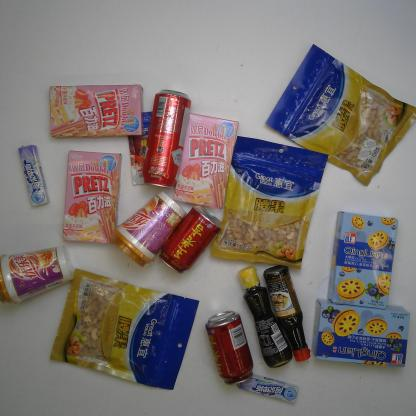Alcohol: (140, 88, 194, 192)
Candy: (232, 369, 304, 406), (15, 142, 50, 211)
Dessert: (326, 205, 400, 311), (309, 296, 412, 371), (171, 110, 242, 210), (58, 148, 125, 250), (46, 80, 147, 141)
Dried Fruit: (263, 42, 416, 191), (42, 265, 200, 392), (204, 134, 331, 272)
Drink: (159, 204, 225, 276), (204, 308, 254, 388)
Instant Drink: (110, 189, 190, 271), (1, 242, 79, 309)
Seasoner: (235, 262, 295, 372), (260, 260, 314, 366), (122, 107, 182, 188)
